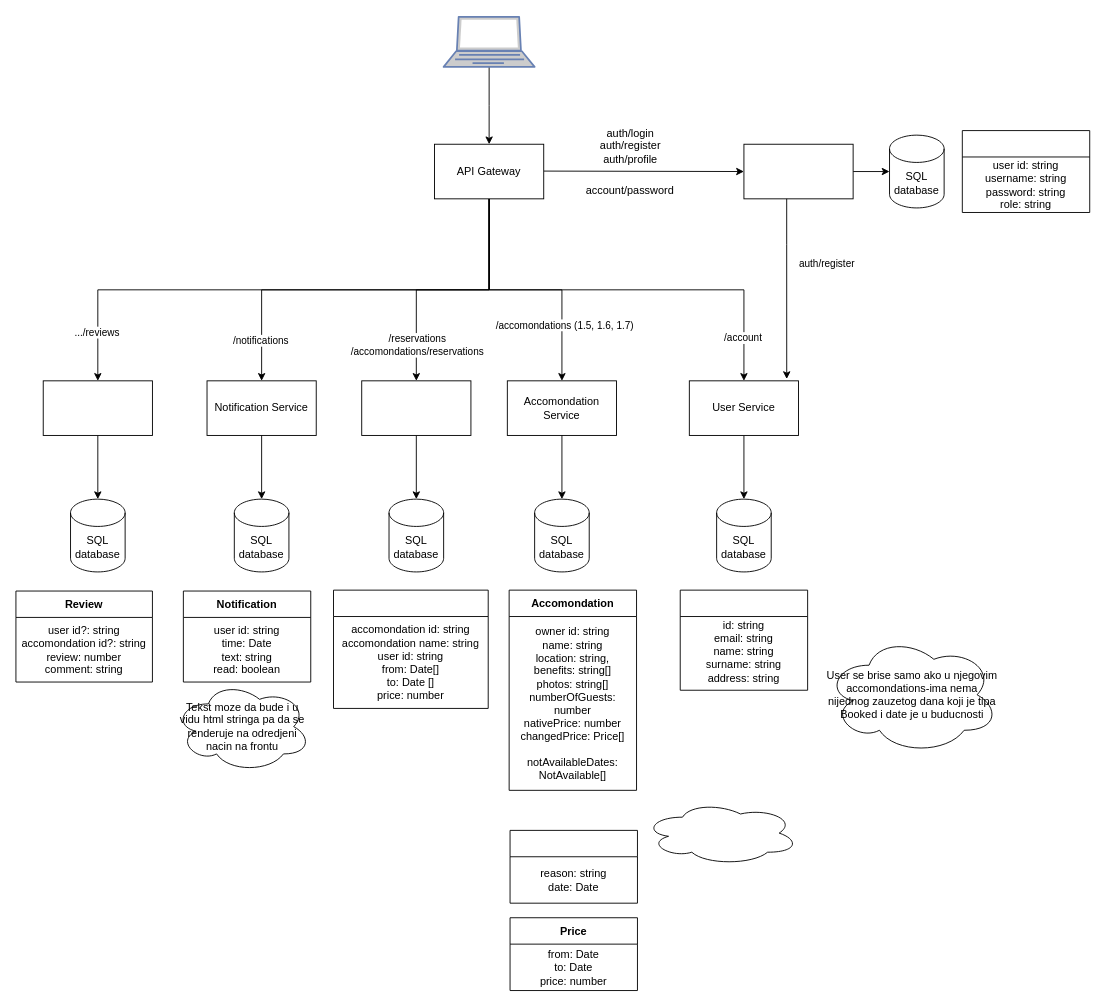
Image size: 1106x1006. Some labels were removed from this diagram. Here are the shapes that lost their labels. From the top down, the box of each, then its label:
(743, 143, 853, 199): Auth service
(961, 130, 1090, 212): AuthInfo
(42, 380, 152, 435): Review Service
(361, 380, 471, 435): Reservation Service
(333, 589, 488, 708): Reservation
(679, 589, 808, 690): User
(643, 800, 799, 865): reason je Booked ili Unavailable
(509, 829, 637, 903): NotAvailable
